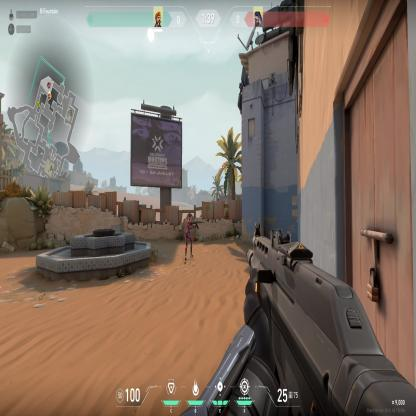enemy: (184, 213, 194, 262)
